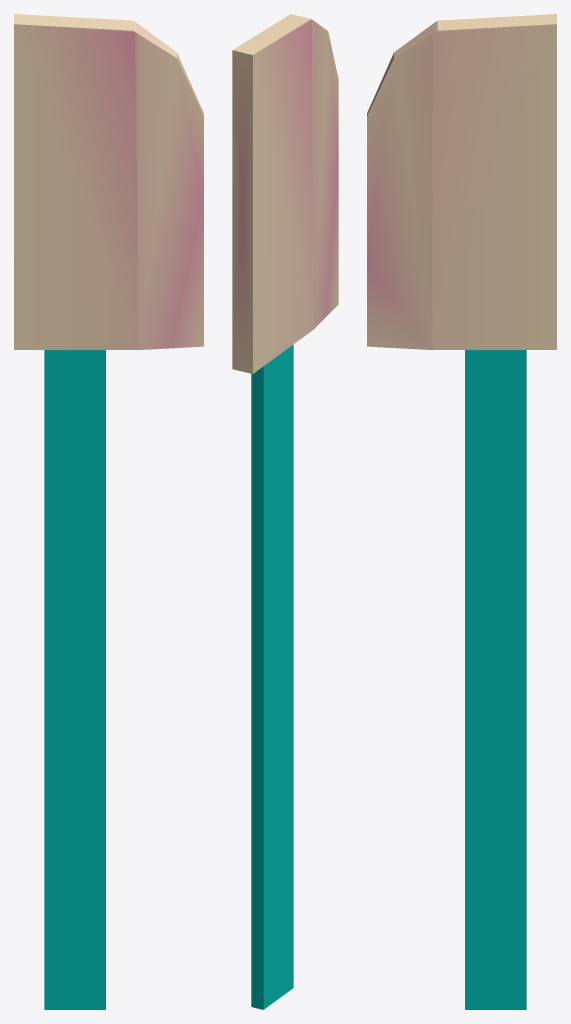
The picture shows the model from 3 angles, left to right: view 1: azimuth 90°, elevation 25°; view 2: azimuth 150°, elevation 25°; view 3: azimuth 270°, elevation 25°; orthographic projection. The views are drawn at different scales.
Parts seen in each view (by area): view 1: blade, handle; view 2: blade, handle; view 3: blade, handle.
Boxes of the visible parts, left/top/right/bottom form: blade: left=14, top=14, right=203, bottom=349; handle: left=44, top=350, right=105, bottom=1009; blade: left=232, top=14, right=338, bottom=373; handle: left=251, top=344, right=293, bottom=1009; blade: left=367, top=14, right=556, bottom=349; handle: left=465, top=350, right=526, bottom=1009.
Size of the model in its own units: 0.00663 by 0.3 by 0.0522.
